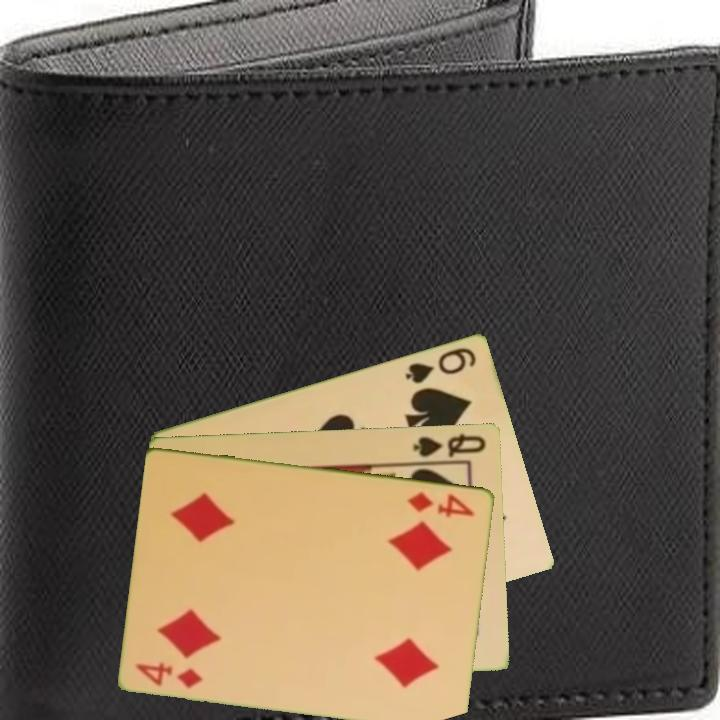4d: (404, 488, 478, 520), (133, 658, 206, 690)
6s: (401, 343, 480, 386)
Qs: (409, 430, 489, 460)
